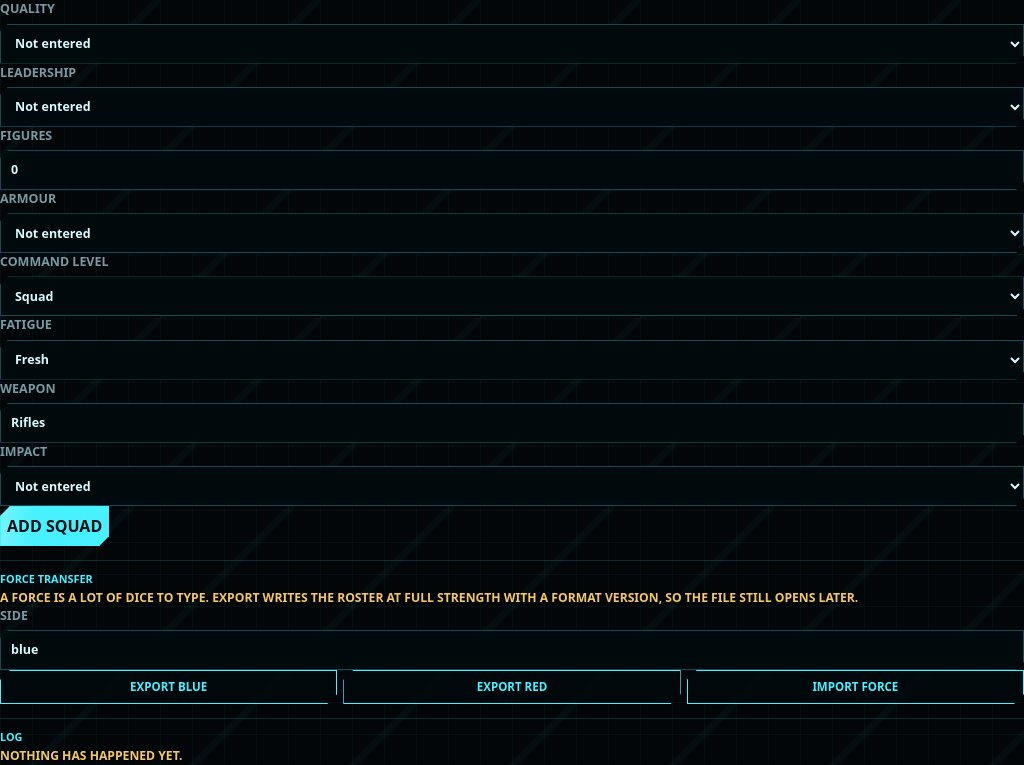
Test: StarGruntView force export › still writes a file for a snapshot that carries one
(page scrolled)
Click the button "Export blue": (169, 687) [0, 670, 337, 704]
(page scrolled)
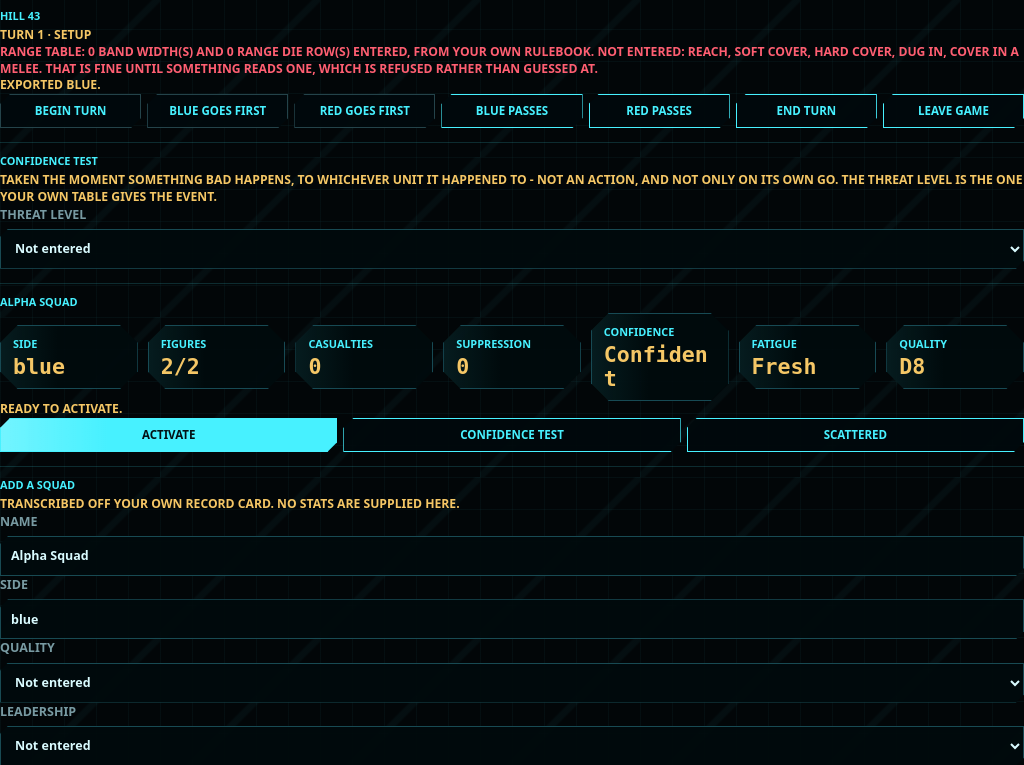
Now the text "Exported blue." is shown, box [0, 76, 101, 93]
